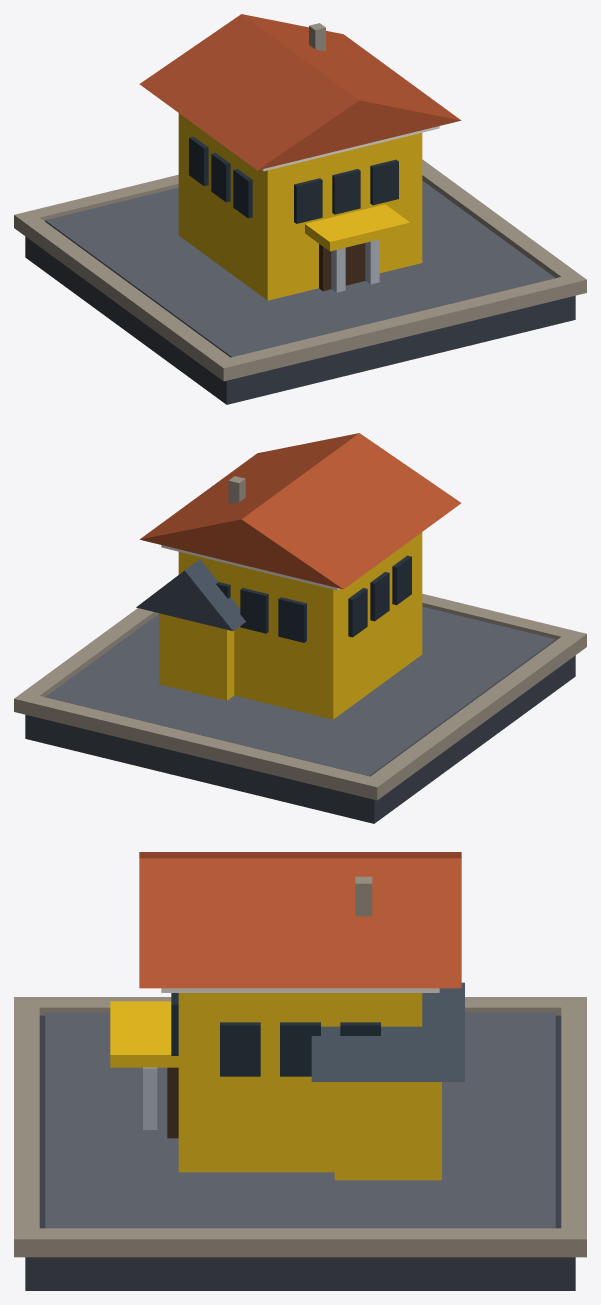
The model's file is city.house_2.glb.
3 views of the same model, one above another, from view 1: azimuth 30°, elevation 25°; view 2: azimuth 150°, elevation 25°; view 3: azimuth 270°, elevation 25° (orthographic). The views are drawn at different scales.
Parts seen in each view (by area): view 1: city.house_2; view 2: city.house_2; view 3: city.house_2.
Boxes of the visible parts, <box> form: city.house_2: <box>14,14,586,404</box>; city.house_2: <box>14,433,586,823</box>; city.house_2: <box>14,852,586,1290</box>.
Bounding box in the file's own units: 2.02 × 1.25 × 2.02.
